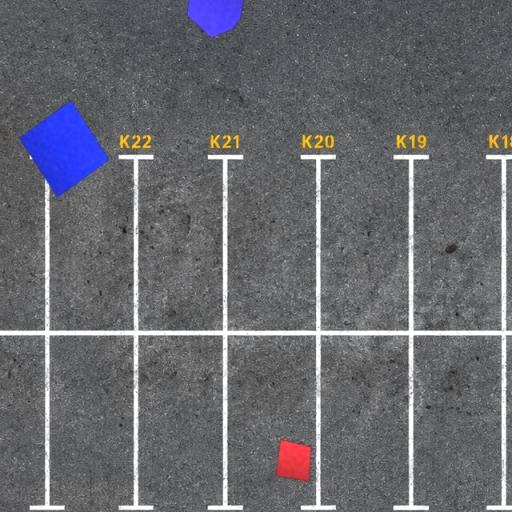BLUE_SQUARE: (18, 100, 110, 198)
RED_SQUARE: (275, 438, 312, 482)
